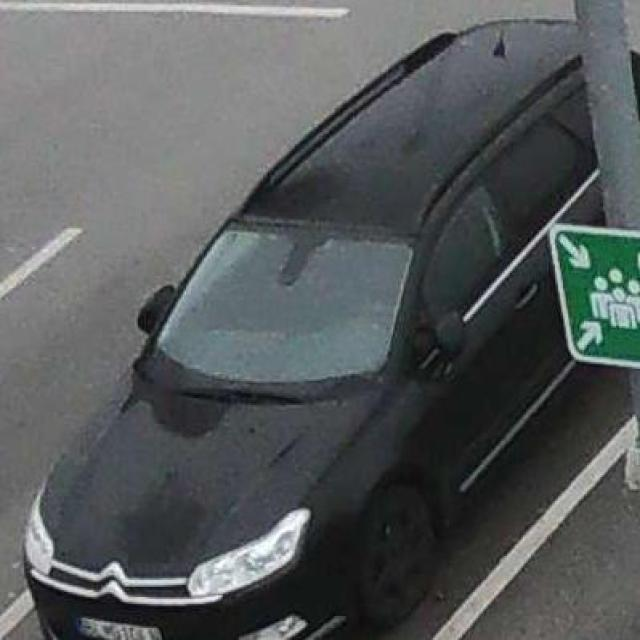Car: (21, 9, 640, 640)
